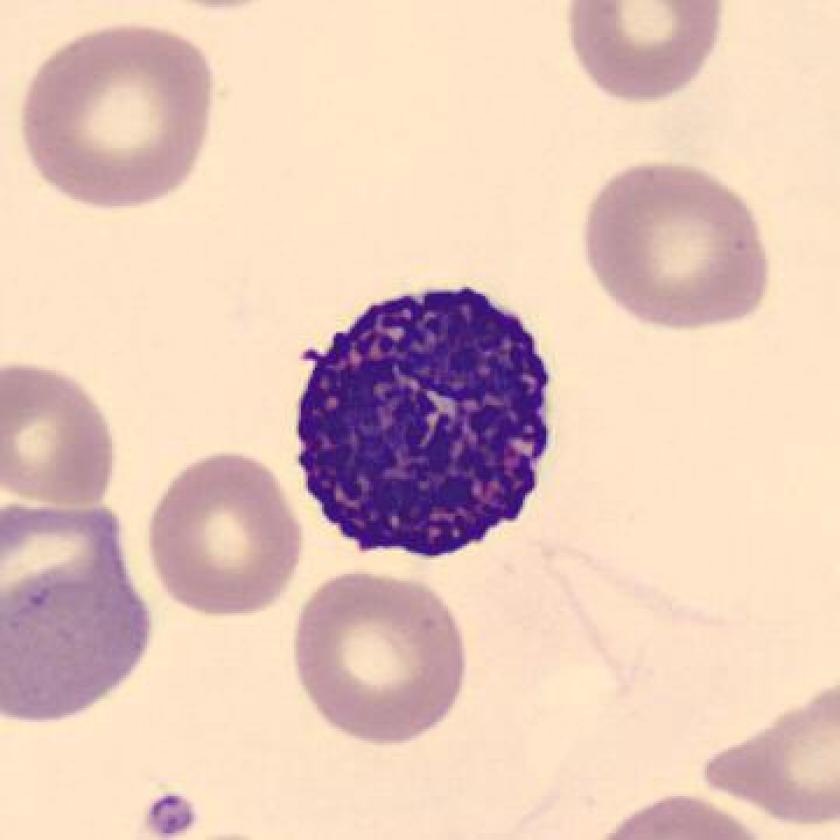basophil: (283, 272, 566, 566)
